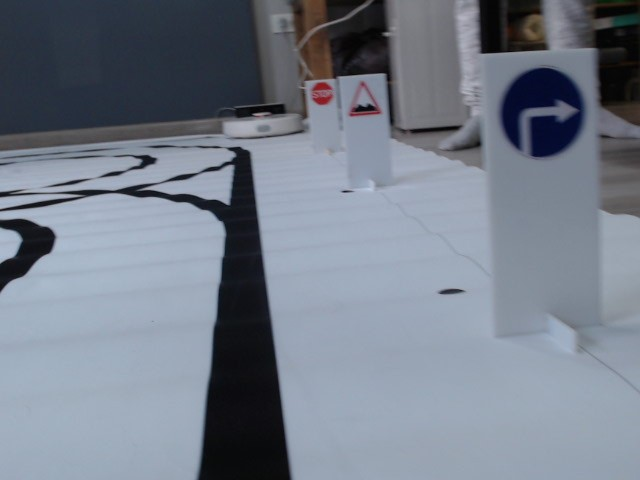Nerov: (348, 80, 382, 117)
Right: (495, 65, 585, 161)
